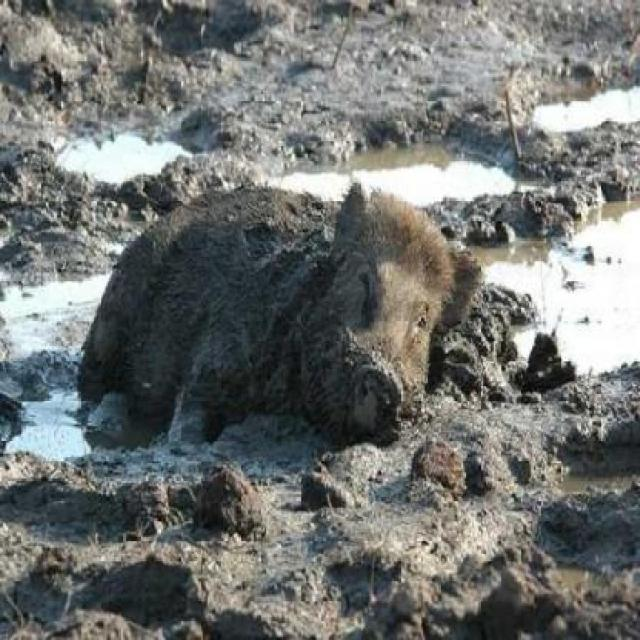Boar: (54, 135, 461, 512)
